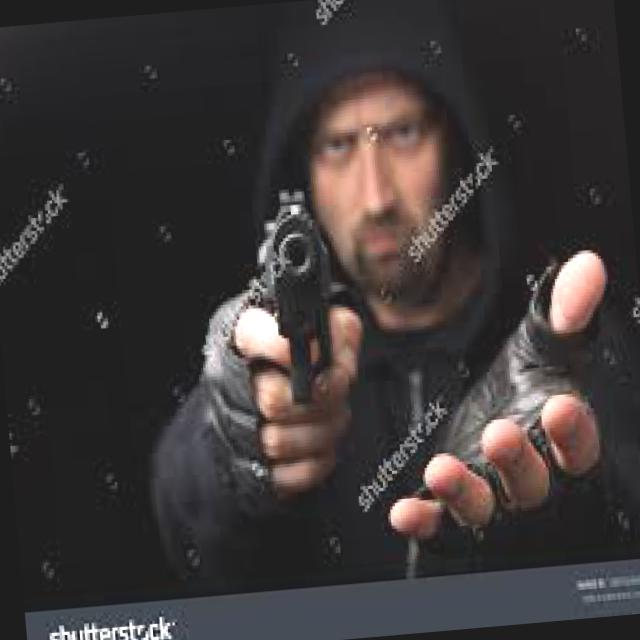handgun: (248, 156, 357, 407)
